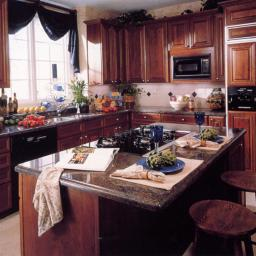Electrodomestico: (93, 127, 191, 151)
